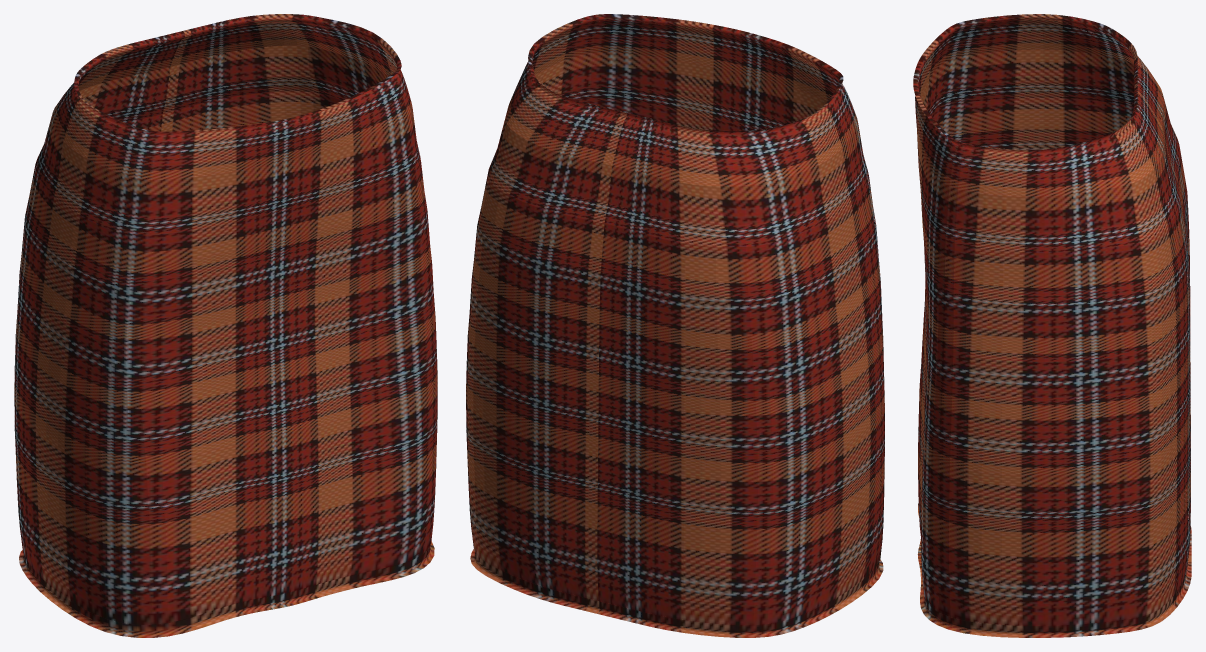
Rendered from medium_skirt_checked.obj.
The picture shows the model from 3 angles, left to right: view 1: azimuth 30°, elevation 25°; view 2: azimuth 150°, elevation 25°; view 3: azimuth 270°, elevation 25°; orthographic projection. The views are drawn at different scales.
Parts seen in each view (by area): view 1: A3skirt01; view 2: A3skirt01; view 3: A3skirt01.
Part boxes in pixels (x1,y1,x2,y2): A3skirt01: (14, 14, 437, 637); A3skirt01: (466, 14, 884, 637); A3skirt01: (913, 14, 1191, 637).
Bounding box in the file's own units: 0.2646 × 0.3419 × 0.1815.
Materials: 1 (1 with a texture image).
